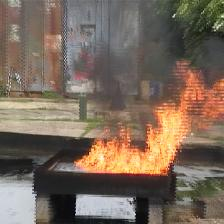fire: (75, 60, 224, 177)
